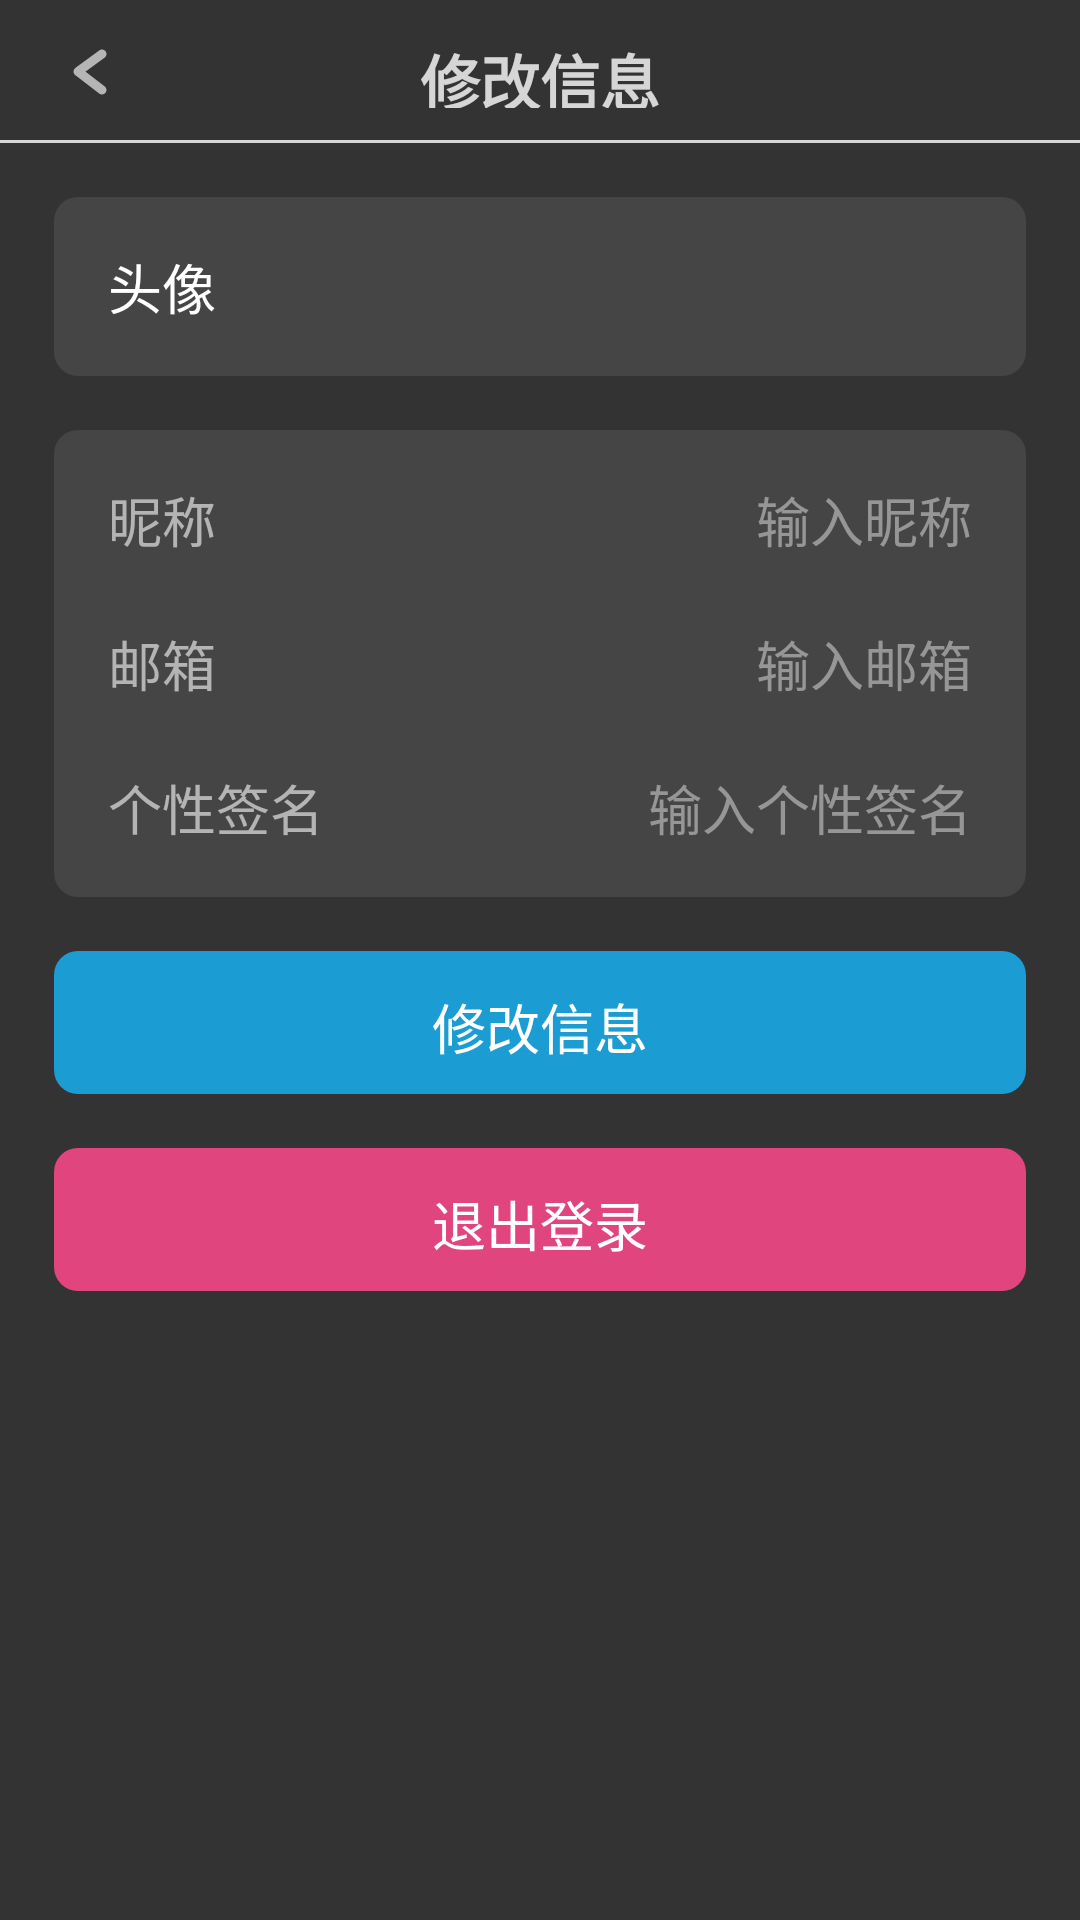

Where icons sit on this 1080w x 1920h app screen, as (x1, y1, x2, y2):
back: (73, 49, 107, 95)
